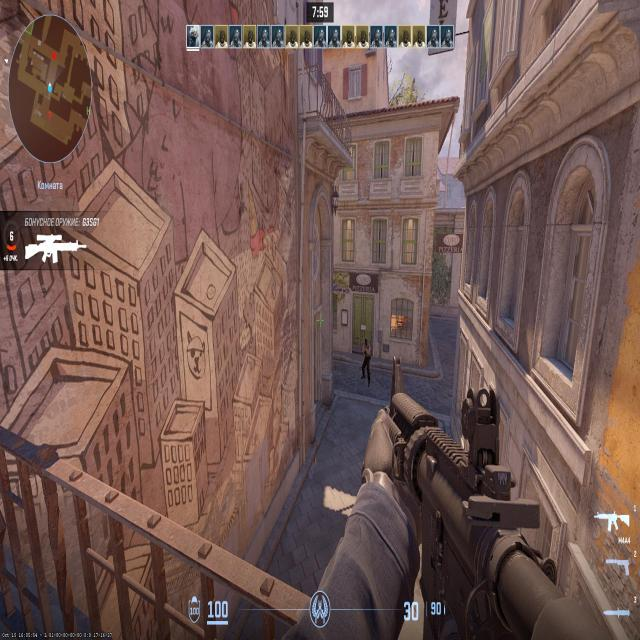T: (365, 341, 370, 378)
T_heat: (365, 343, 366, 349)
